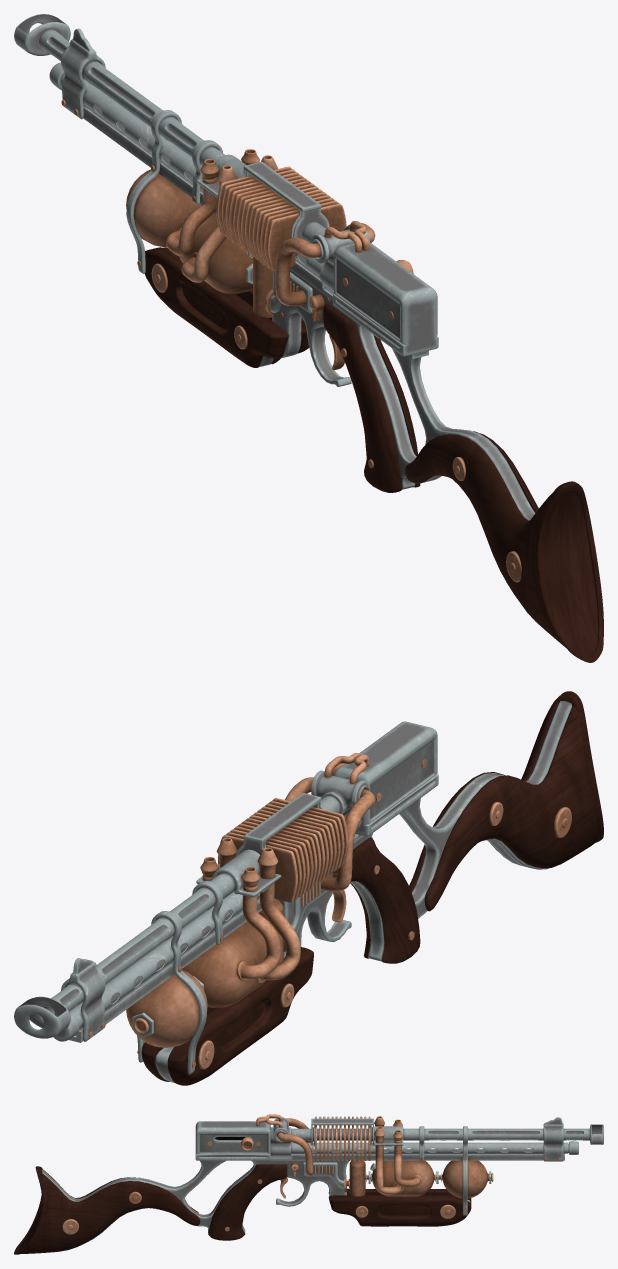
Rendered from steampunk_rifle.glb.
The picture shows the model from 3 angles, top to bottom: view 1: azimuth 30°, elevation 25°; view 2: azimuth 150°, elevation 25°; view 3: azimuth 270°, elevation 25°; orthographic projection. The views are drawn at different scales.
Parts seen in each view (by area): view 1: dark_steel, wood, copper; view 2: dark_steel, wood, copper; view 3: dark_steel, wood, copper.
Boxes of the visible parts, x1,y1,x2,y2 form: dark_steel: (14,14,535,520); wood: (144,247,603,662); copper: (61,100,521,582); dark_steel: (14,701,571,1082); wood: (141,691,603,1085); copper: (89,753,571,1069); dark_steel: (41,1117,603,1247); wood: (14,1164,471,1254); copper: (62,1114,561,1234).
Bounding box in the file's own units: 0.0549 × 0.1288 × 0.5041.
1 material, 1 textured.
